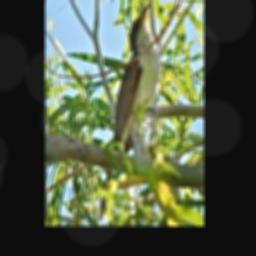Cuckoo: (98, 5, 161, 220)
